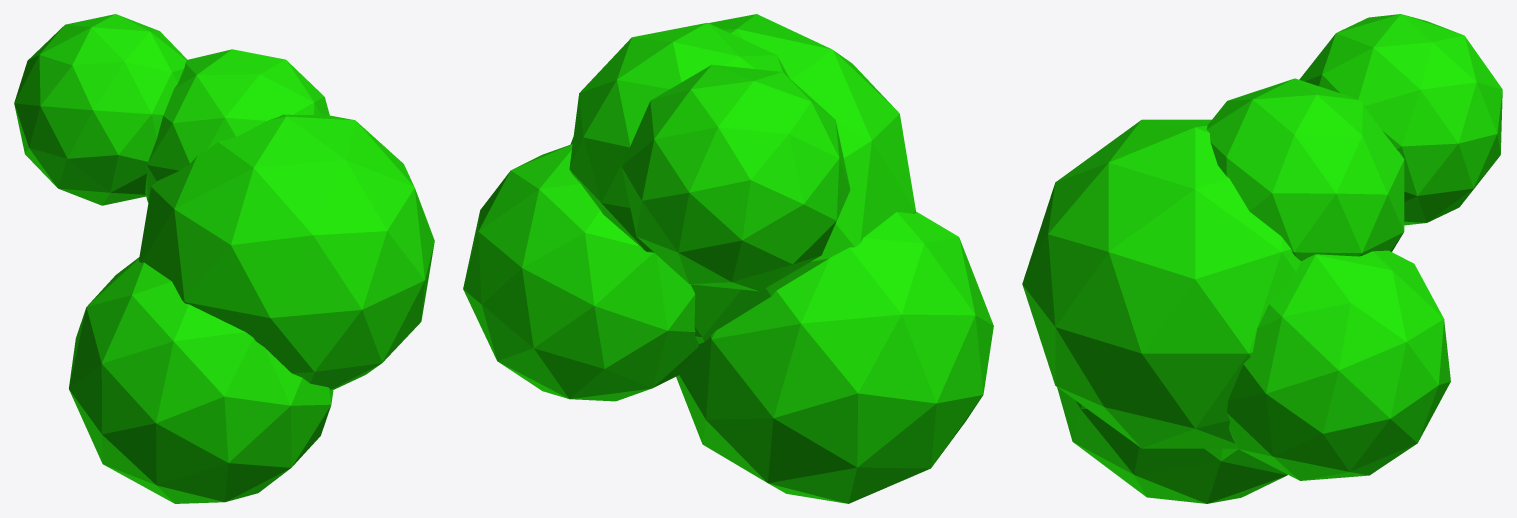
Rendered from bush 8.fbx.
3 views of the same model, side by side, from view 1: azimuth 30°, elevation 25°; view 2: azimuth 150°, elevation 25°; view 3: azimuth 270°, elevation 25° (orthographic). The views are drawn at different scales.
Visible parts, largest first — view 1: Icosphere.008; view 2: Icosphere.008; view 3: Icosphere.008.
Boxes of the visible parts, box(x1,y1,x2,y2) form: Icosphere.008: box(14, 14, 434, 503); Icosphere.008: box(463, 14, 993, 503); Icosphere.008: box(1022, 14, 1502, 503).
Size of the model in its own units: 264 by 293 by 278.
